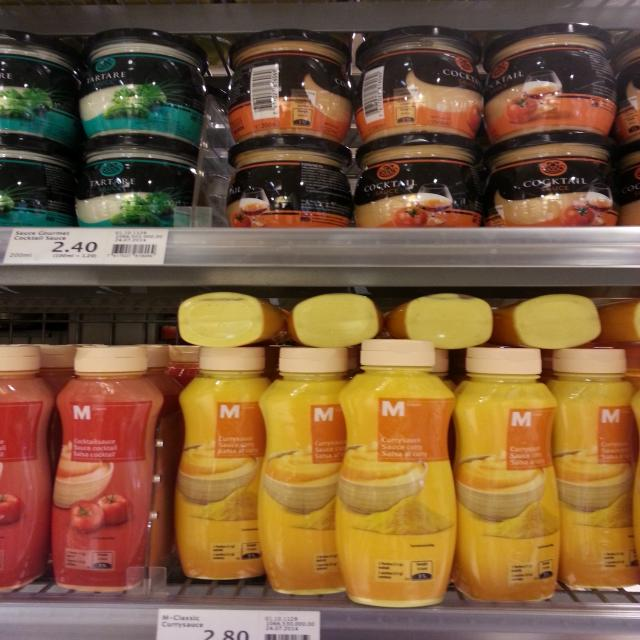Sauce: (338, 337, 458, 608), (54, 345, 164, 591), (458, 348, 560, 603), (261, 347, 355, 594), (174, 348, 268, 580), (550, 348, 640, 586), (484, 23, 617, 143), (80, 29, 208, 145), (358, 26, 485, 142), (227, 29, 356, 143), (480, 132, 620, 226), (0, 344, 51, 592), (354, 132, 482, 228), (228, 134, 355, 227), (76, 133, 200, 228), (0, 30, 80, 147), (0, 133, 77, 226)
